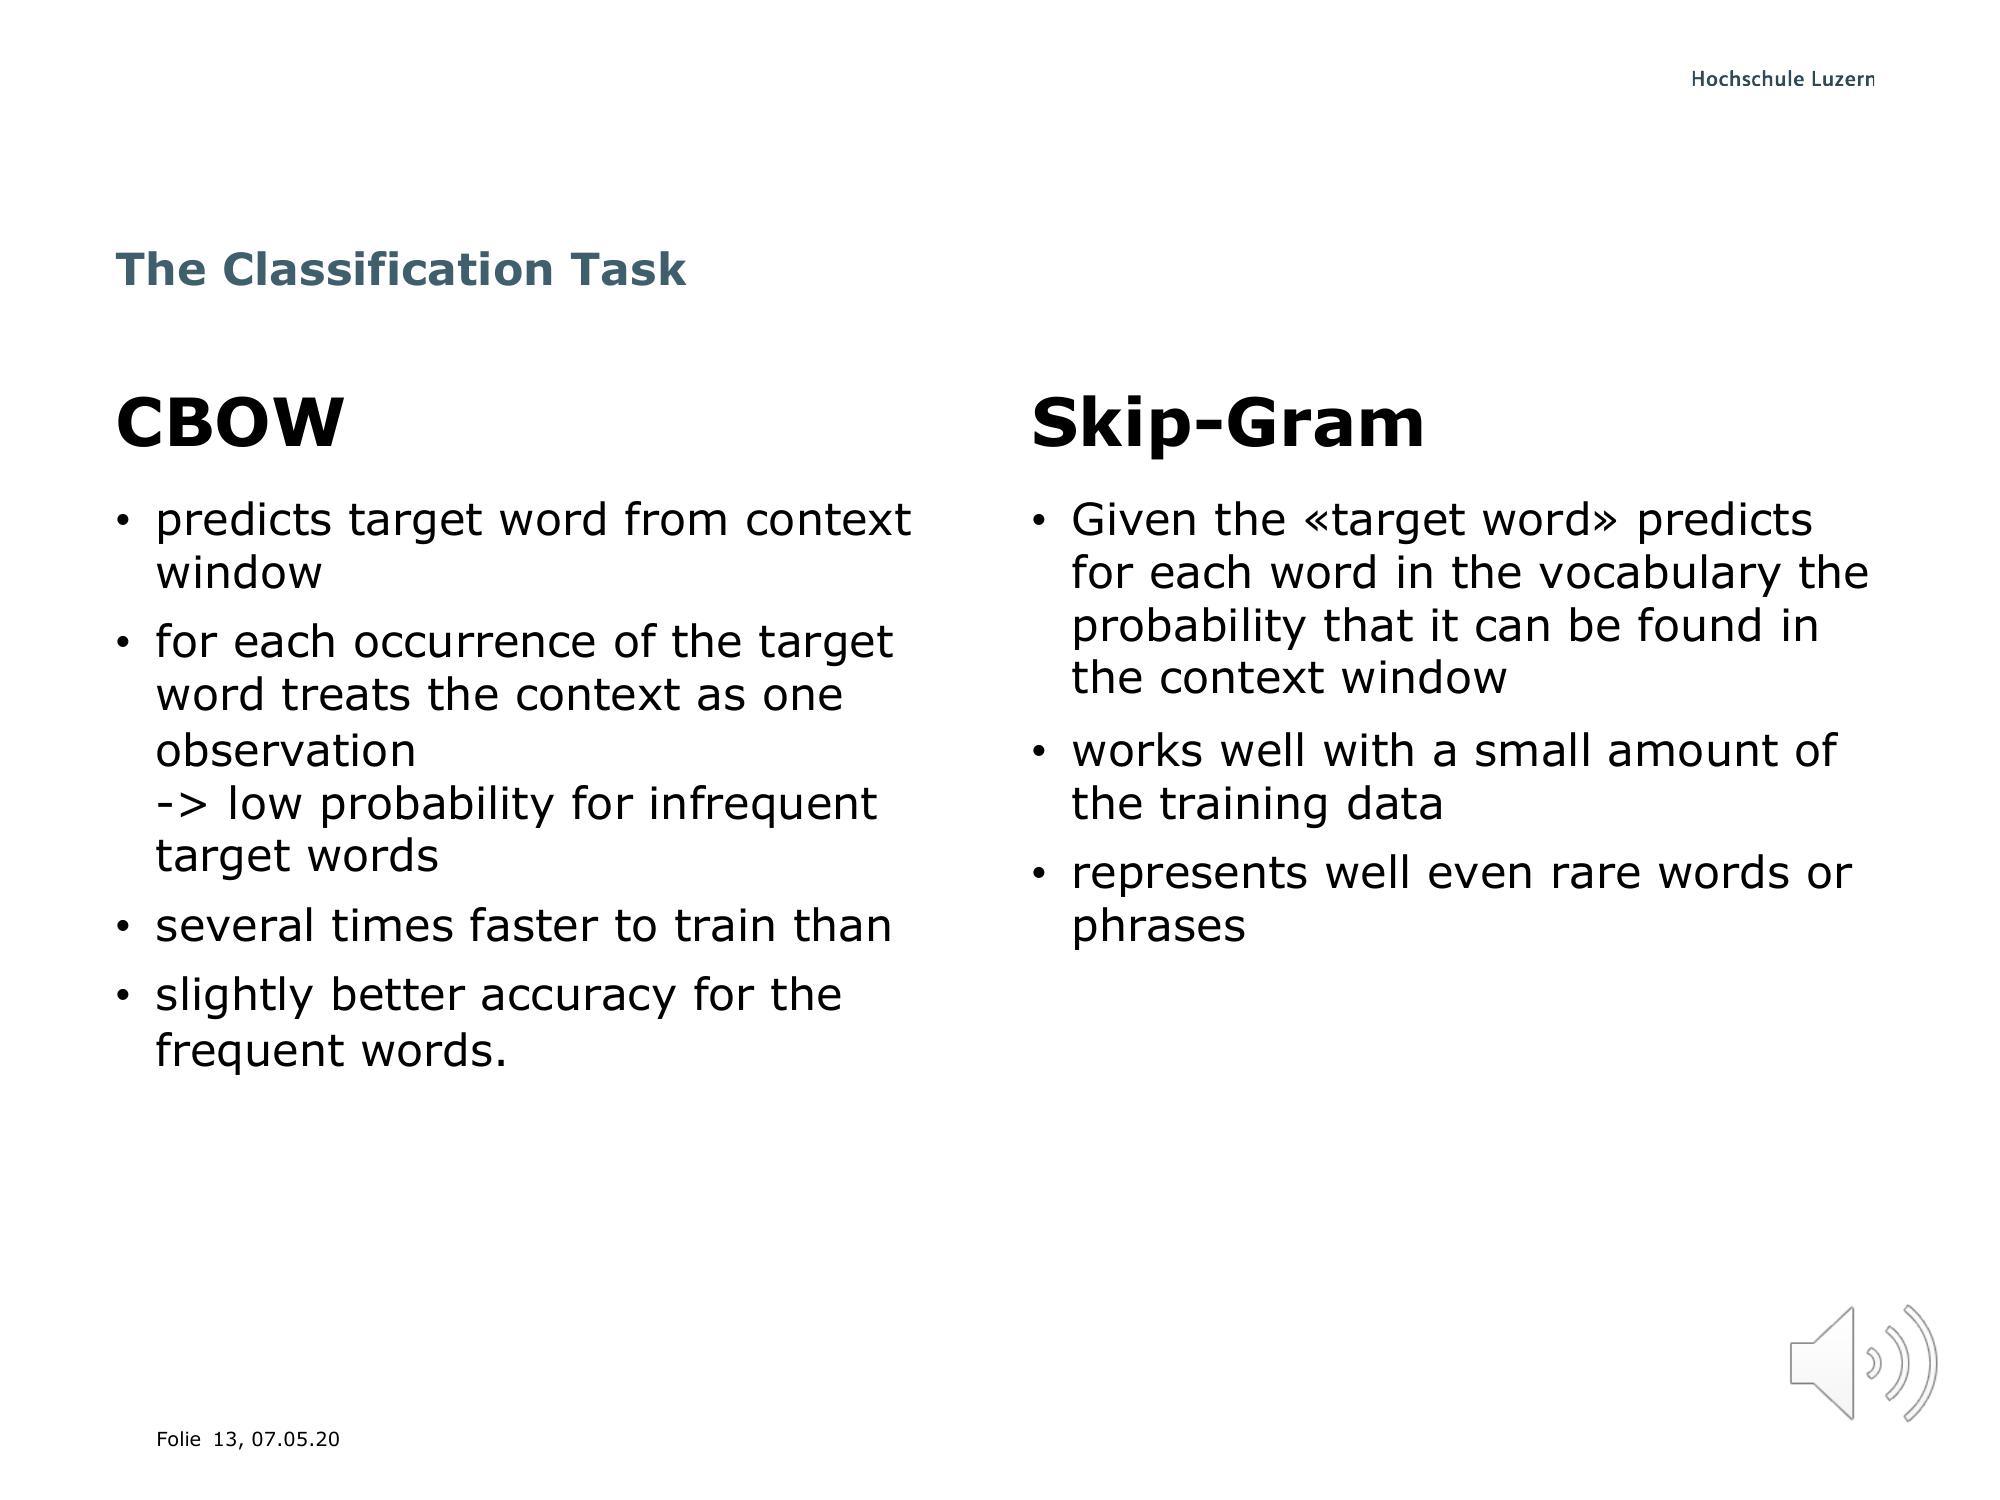Title: (93, 227, 698, 299)
